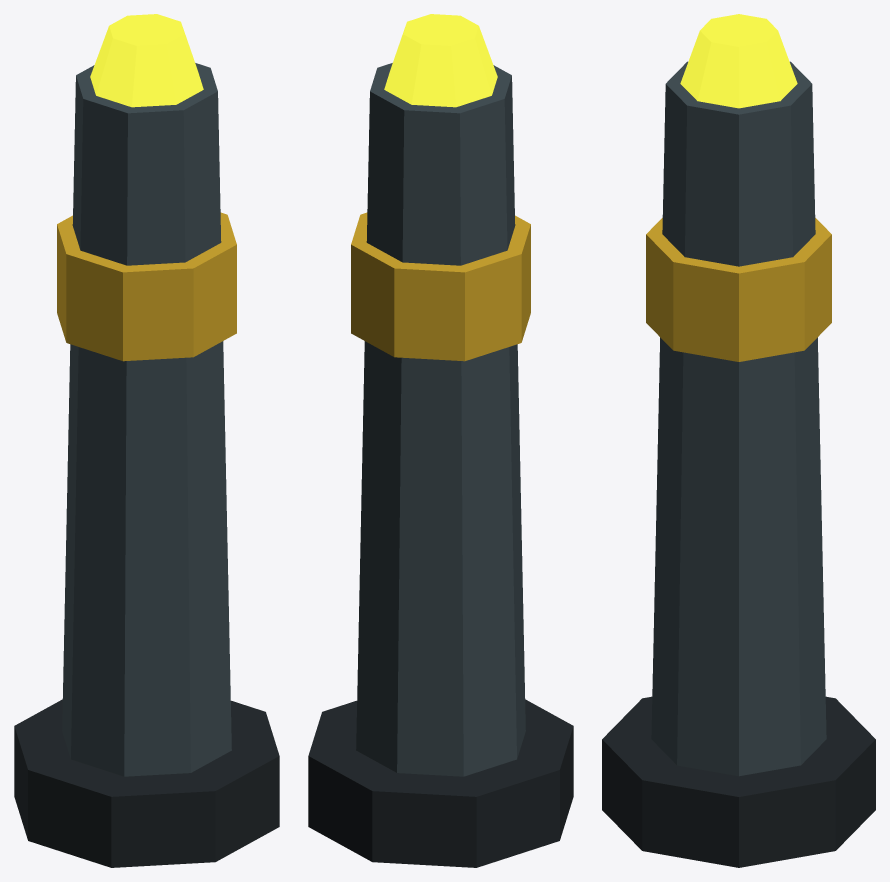
File: Env_Bollard.fbx
3 views of the same model, side by side, from view 1: azimuth 30°, elevation 25°; view 2: azimuth 150°, elevation 25°; view 3: azimuth 270°, elevation 25° (orthographic).
Visible parts, largest first — view 1: Env_Bollard; view 2: Env_Bollard; view 3: Env_Bollard.
Part boxes in pixels (bbox=[...]): Env_Bollard: bbox=[14, 14, 279, 867]; Env_Bollard: bbox=[308, 14, 573, 867]; Env_Bollard: bbox=[602, 14, 875, 867].
Size of the model in its own units: 0.28 by 0.28 by 0.88.
